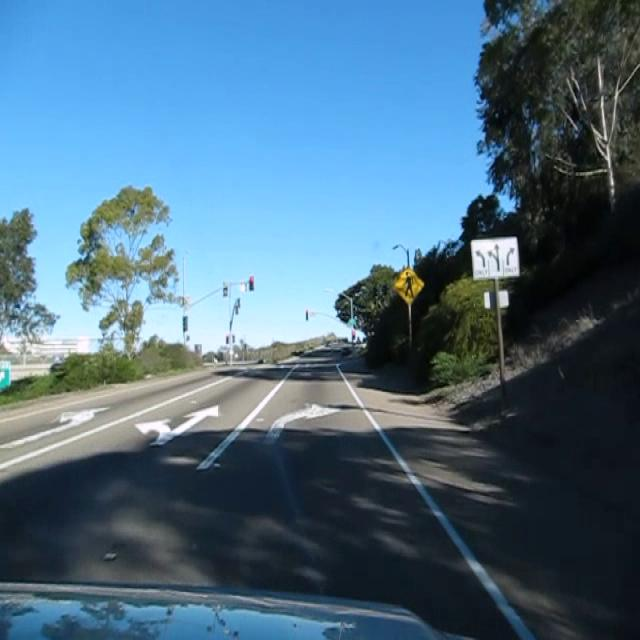pedestrianCrossing: (391, 264, 424, 305)
